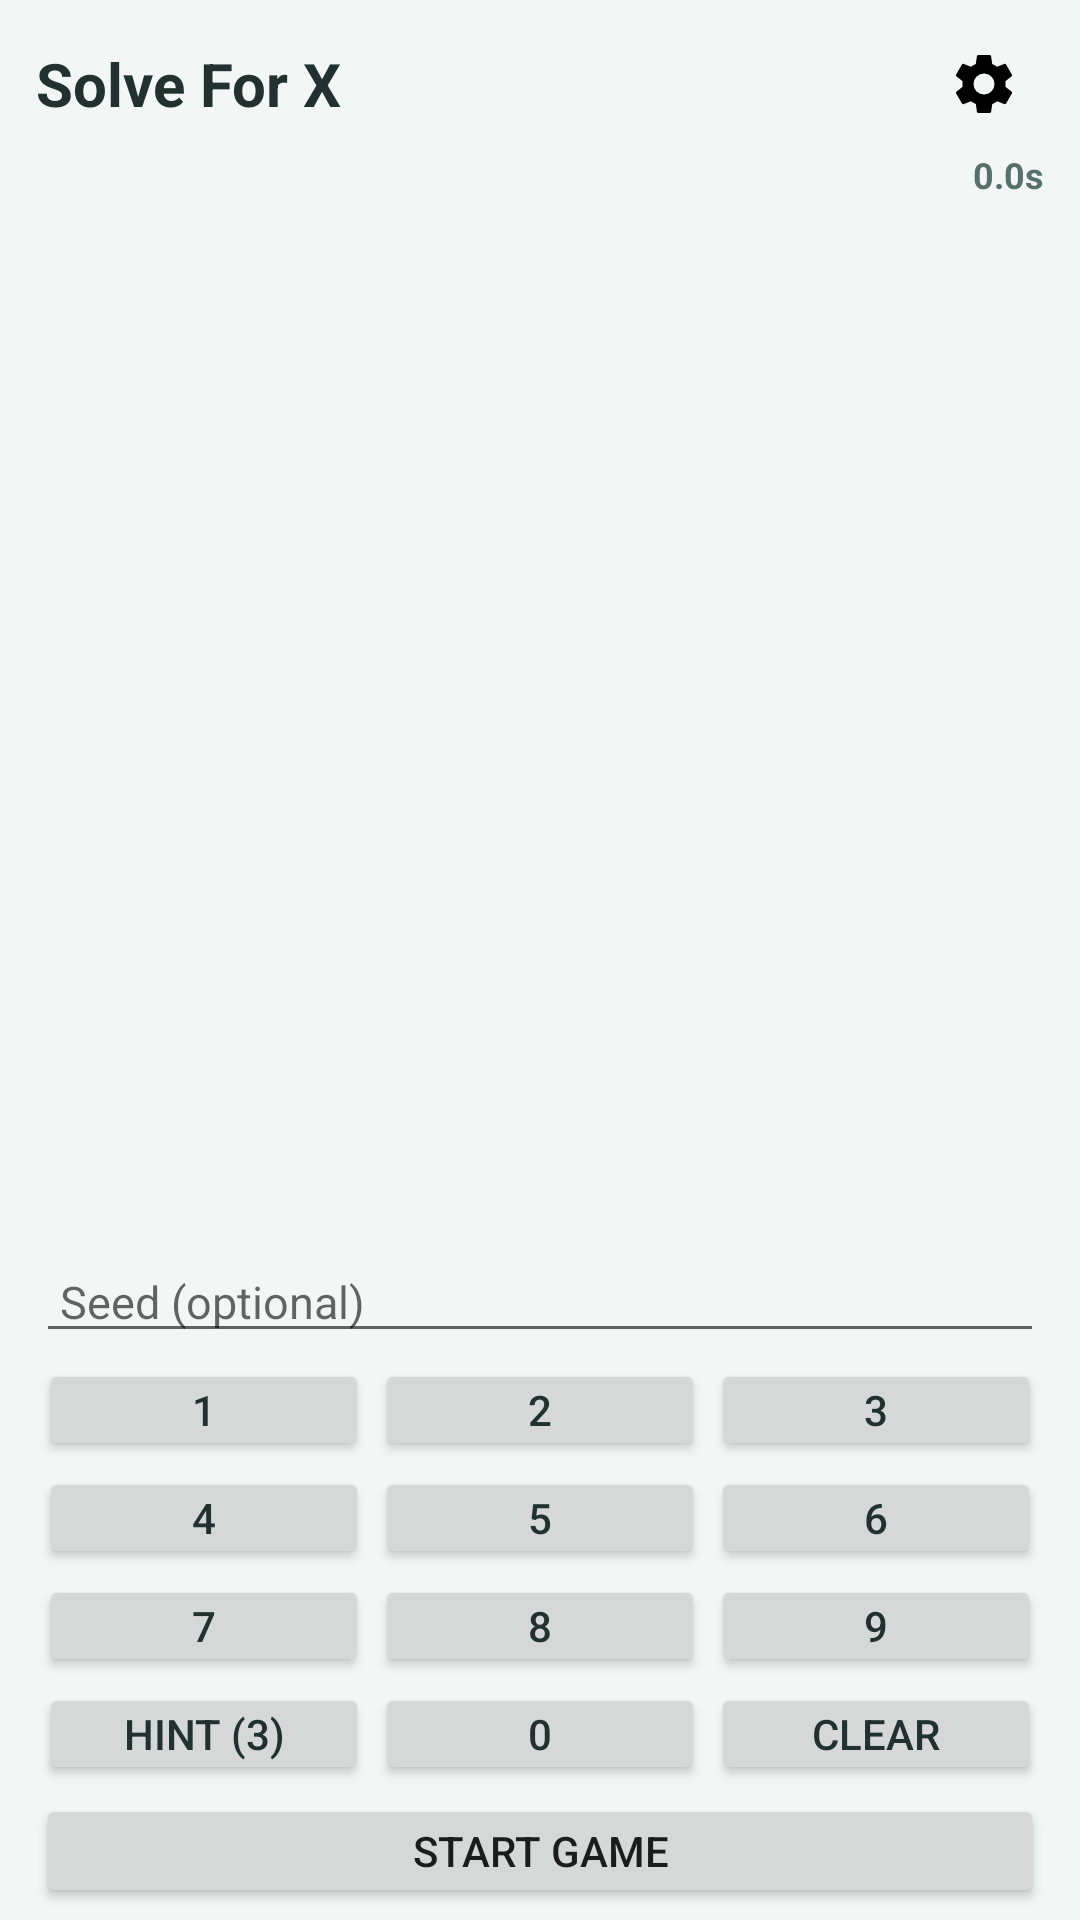

Point at icon controls on the screen. Image size 1080px×1920px, points as [x,y].
Settings: [984,84]
